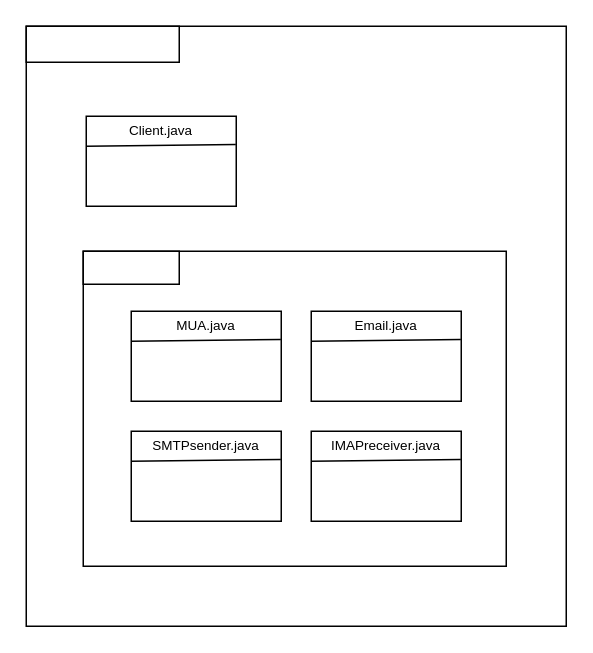
Some shapes in this 593 by 653 pixel diagram are drawn without their labels. The centre of each missing label's shape, as x and y in pixels:
Agents: the point at 130,267
MailClient: the point at 102,43
